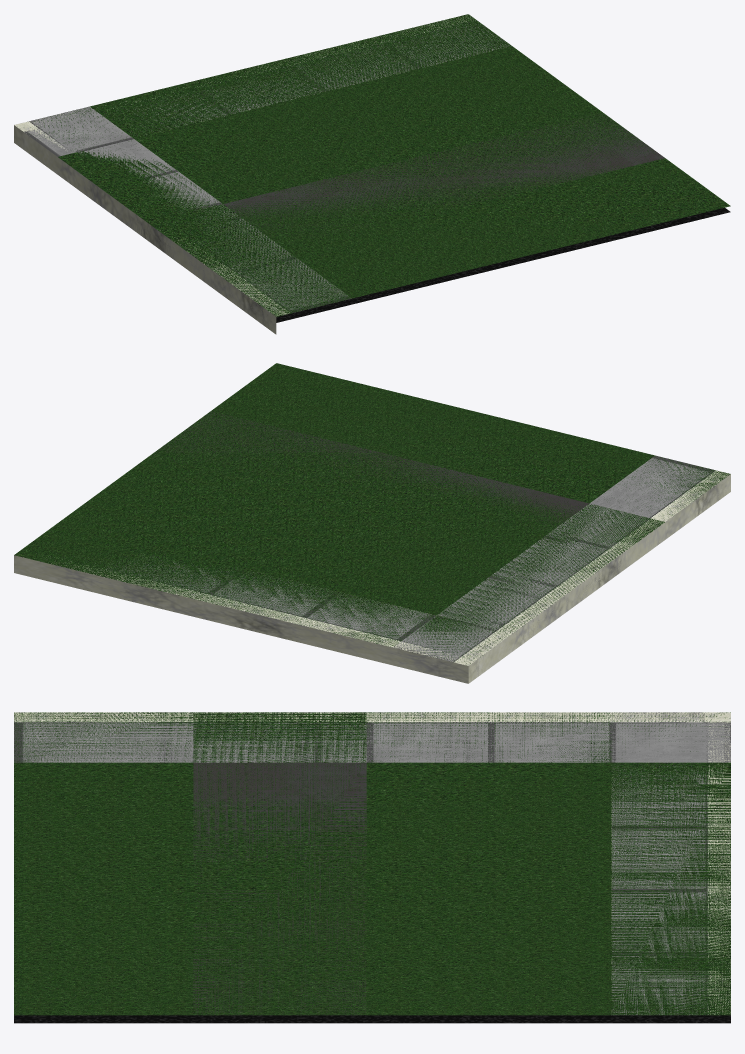
The model's file is ground_tiles.glb.
3 renders of one model, top to bottom at view 1: azimuth 30°, elevation 25°; view 2: azimuth 150°, elevation 25°; view 3: azimuth 270°, elevation 25°, orthographic. The views are drawn at different scales.
Visible parts, largest first — view 1: yard_sidewalk_outer_corner, yard_sidewalk_driveway, yard_sidewalk_inner_corner, yard_grass_only, yard_sidewalk_straight_edge, road_straight; view 2: yard_grass_only, yard_sidewalk_outer_corner, yard_sidewalk_inner_corner, yard_sidewalk_driveway, yard_sidewalk_straight_edge; view 3: yard_sidewalk_outer_corner, yard_sidewalk_inner_corner, yard_sidewalk_driveway, yard_sidewalk_straight_edge, road_straight, yard_grass_only.
Boxes of the visible parts, x1,y1,x2,y2 form: yard_sidewalk_outer_corner: (14,14,730,316); yard_sidewalk_driveway: (15,14,715,334); yard_sidewalk_inner_corner: (14,15,723,316); yard_grass_only: (28,15,696,186); yard_sidewalk_straight_edge: (29,15,623,333); road_straight: (276,207,730,322); yard_grass_only: (36,364,730,665); yard_sidewalk_outer_corner: (14,363,726,683); yard_sidewalk_inner_corner: (14,364,729,665); yard_sidewalk_driveway: (14,363,730,671); yard_sidewalk_straight_edge: (15,365,730,662); yard_sidewalk_outer_corner: (14,712,730,1015); yard_sidewalk_inner_corner: (14,712,730,1015); yard_sidewalk_driveway: (14,712,730,1015); yard_sidewalk_straight_edge: (14,712,730,1015); road_straight: (14,1015,730,1023); yard_grass_only: (16,712,730,979).
Size of what is drawn, in the model's own units: 8 by 0.3 by 8.
11 materials, 11 textured.
